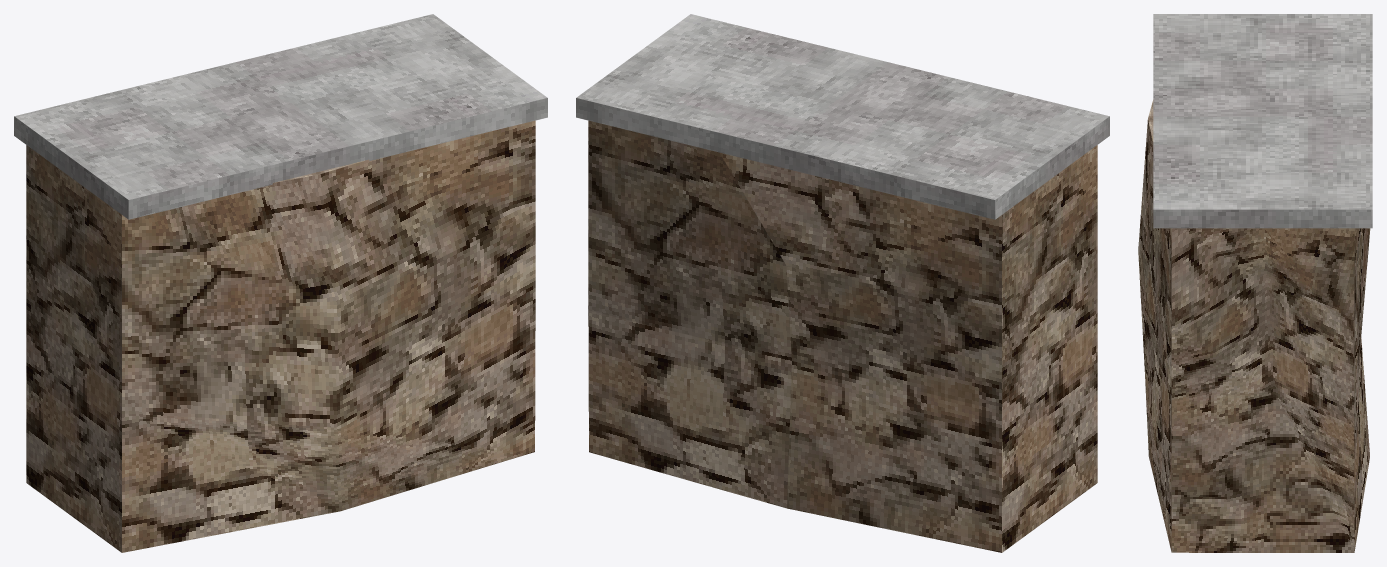
The model's file is drystone_wall_half_capped.glb.
3 views of the same model, side by side, from view 1: azimuth 30°, elevation 25°; view 2: azimuth 150°, elevation 25°; view 3: azimuth 270°, elevation 25° (orthographic). The views are drawn at different scales.
Parts seen in each view (by area): view 1: drystone_wall_half_capped; view 2: drystone_wall_half_capped; view 3: drystone_wall_half_capped.
Part boxes in pixels (left/top/right/bottom): drystone_wall_half_capped: left=14, top=14, right=547, bottom=552; drystone_wall_half_capped: left=576, top=14, right=1109, bottom=552; drystone_wall_half_capped: left=1138, top=14, right=1372, bottom=552.
Size of the model in its own units: 1.27 by 1.04 by 0.6417.
2 materials, 2 textured.
